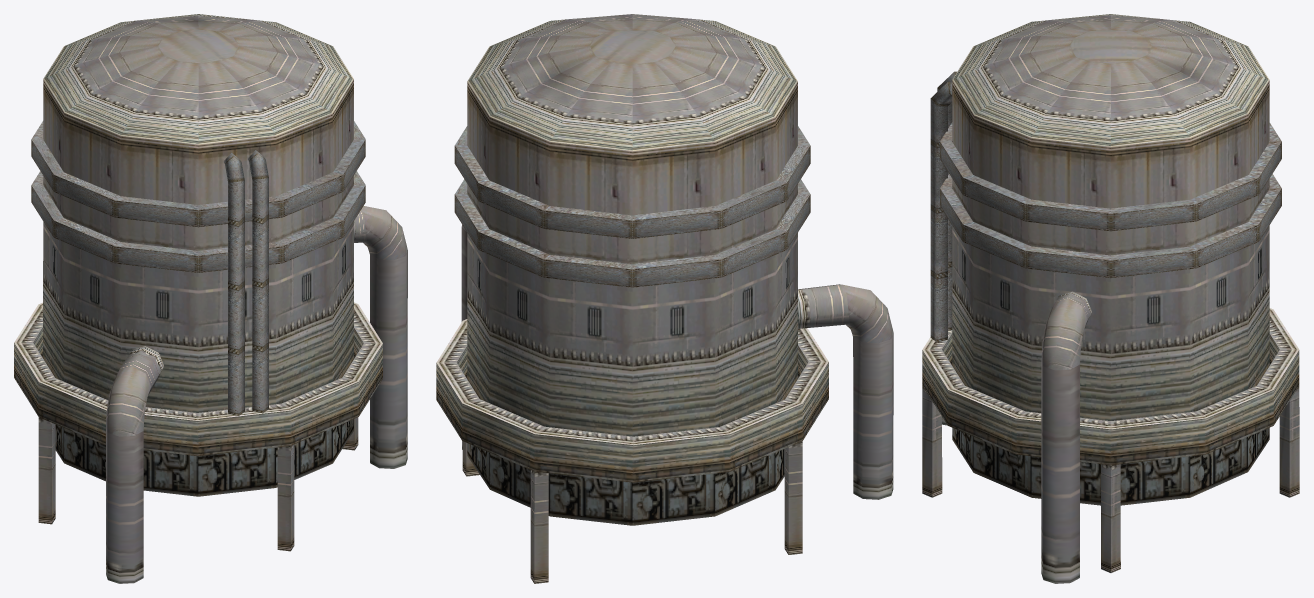
The model's file is M11Z2_OilTank01.glb.
3 views of the same model, side by side, from view 1: azimuth 30°, elevation 25°; view 2: azimuth 150°, elevation 25°; view 3: azimuth 270°, elevation 25° (orthographic). The views are drawn at different scales.
Parts seen in each view (by area): view 1: M11Z2_OILTANK01; view 2: M11Z2_OILTANK01; view 3: M11Z2_OILTANK01.
Boxes of the visible parts, x1,y1,x2,y2 form: M11Z2_OILTANK01: [14, 14, 407, 583]; M11Z2_OILTANK01: [436, 14, 893, 583]; M11Z2_OILTANK01: [922, 14, 1299, 583].
Bounding box in the file's own units: 5.19 × 6.25 × 4.75.
3 materials, 3 textured.
